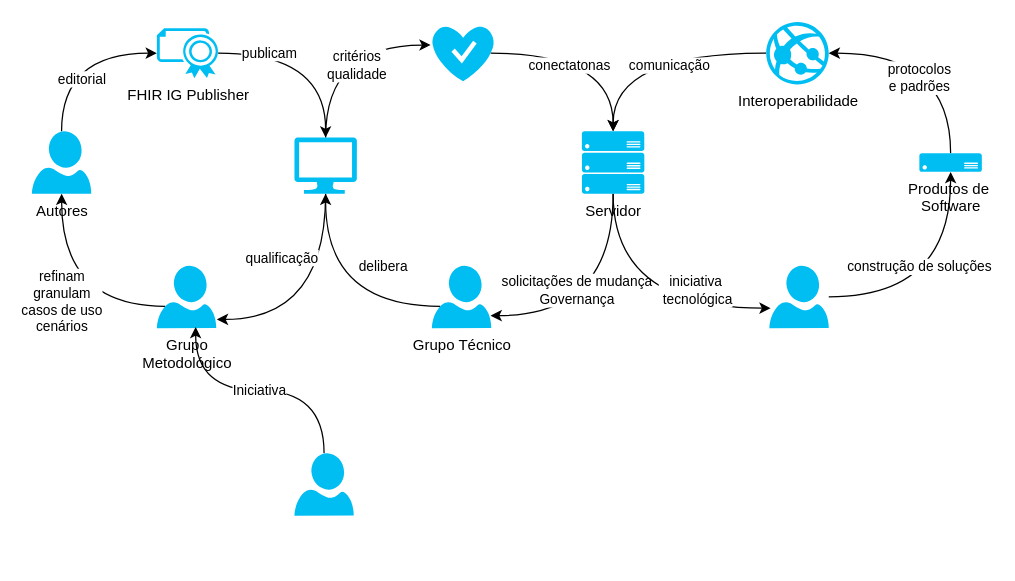
The diagram is 1015 pixels wide and 581 high, and some of its shapes have lost their labels. Each missing label, with the centre of its shape:
"Comissão e-Saúde" goes at pixel 323 483.
"Desenvolvedores" goes at pixel 798 296.
"IG" goes at pixel 325 165.
"Validação" goes at pixel 462 52.
